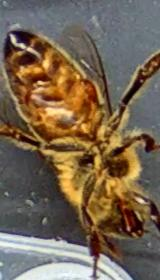varroa_mite: (74, 71, 106, 104)
